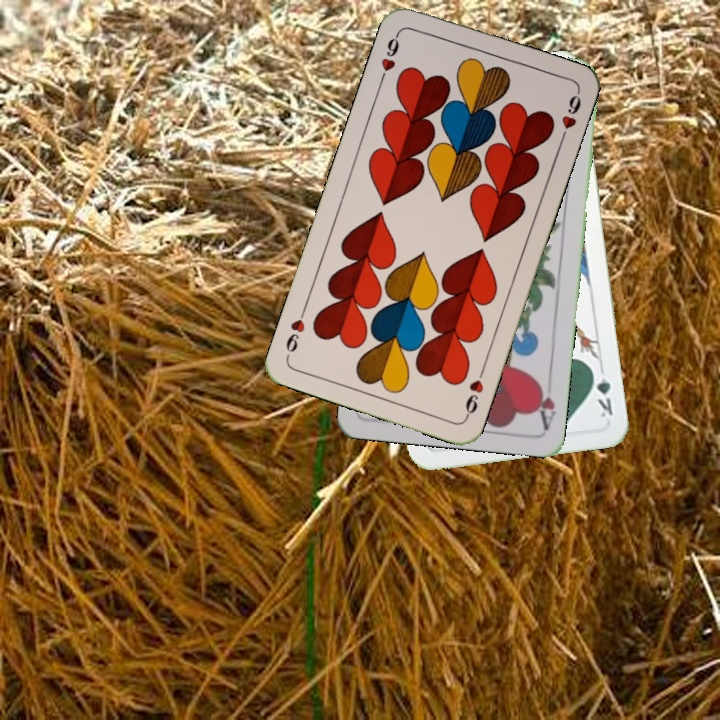GK: (588, 364, 616, 420)
H9: (376, 28, 403, 85), (461, 363, 487, 421)
HA: (531, 376, 559, 431)
